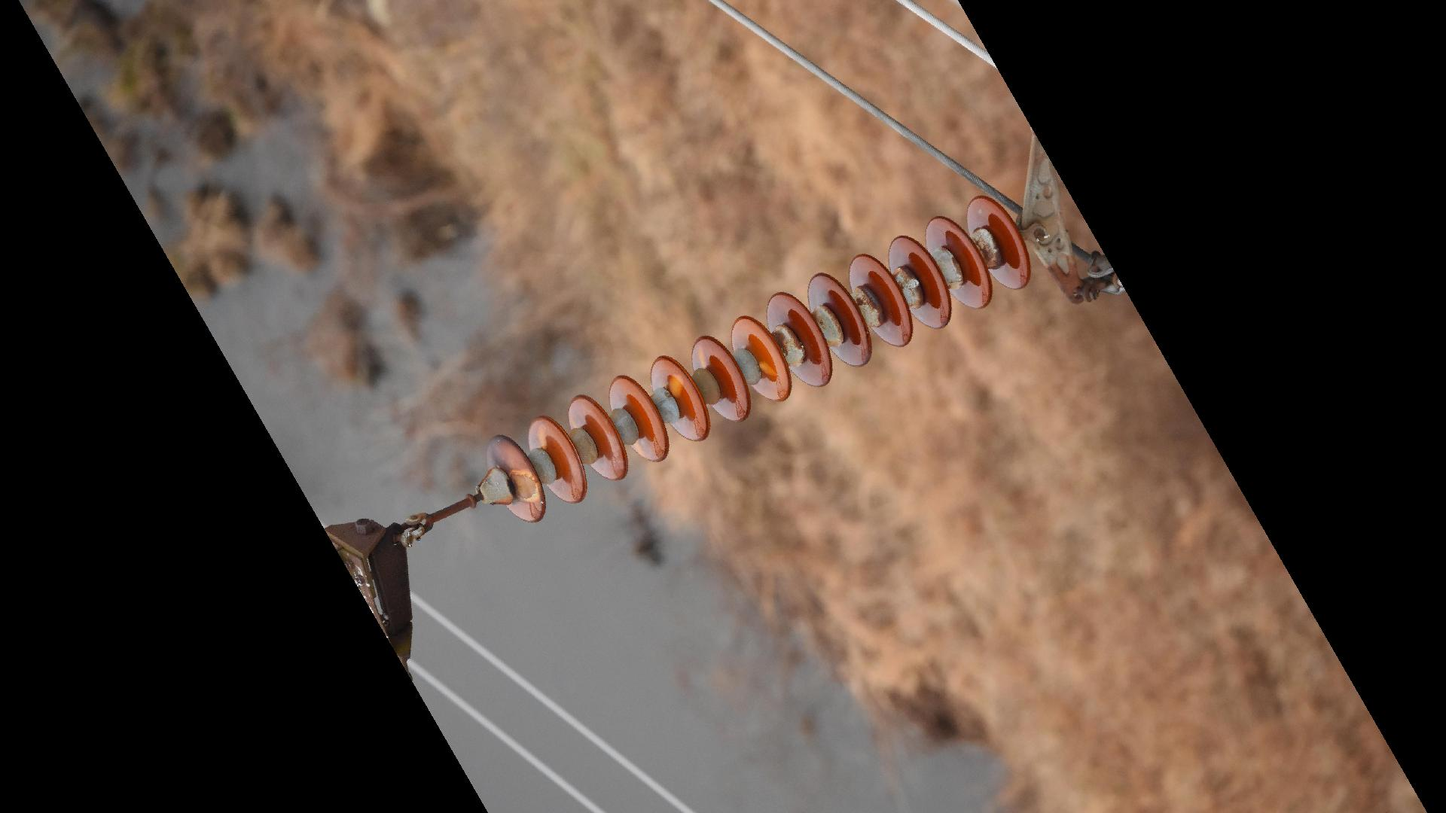insulator: (482, 191, 1036, 527)
insulator_flashover: (506, 467, 543, 505), (756, 359, 781, 382), (666, 372, 686, 399), (536, 422, 549, 450)
